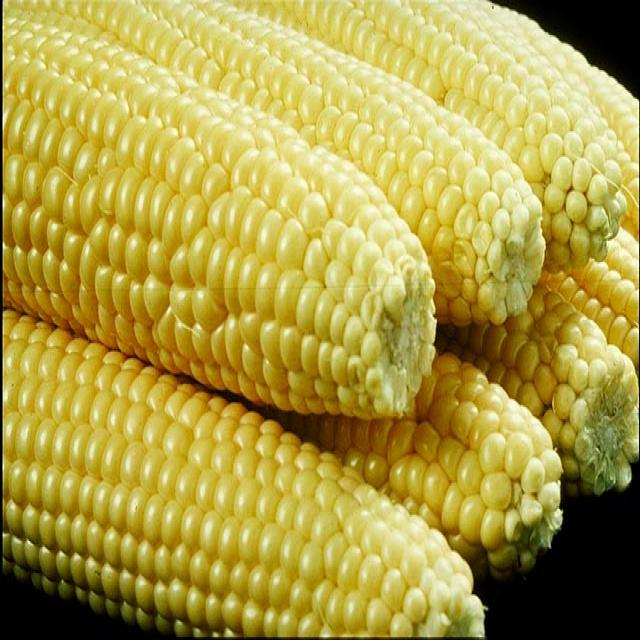corn: (8, 20, 440, 433), (33, 0, 552, 331), (4, 313, 493, 636)
